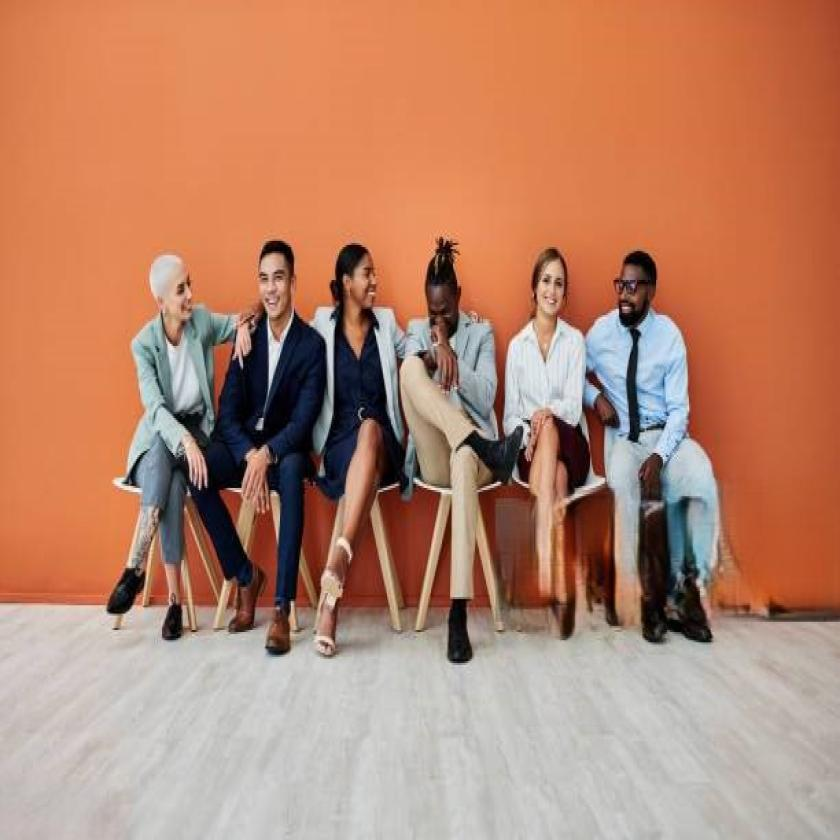Sin_casco: (416, 237, 464, 350), (609, 246, 663, 334), (255, 234, 300, 335), (525, 243, 579, 327), (332, 230, 378, 323), (145, 245, 196, 328)
